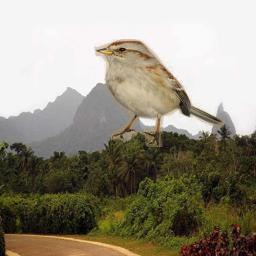Sparrow: (94, 39, 224, 147)
